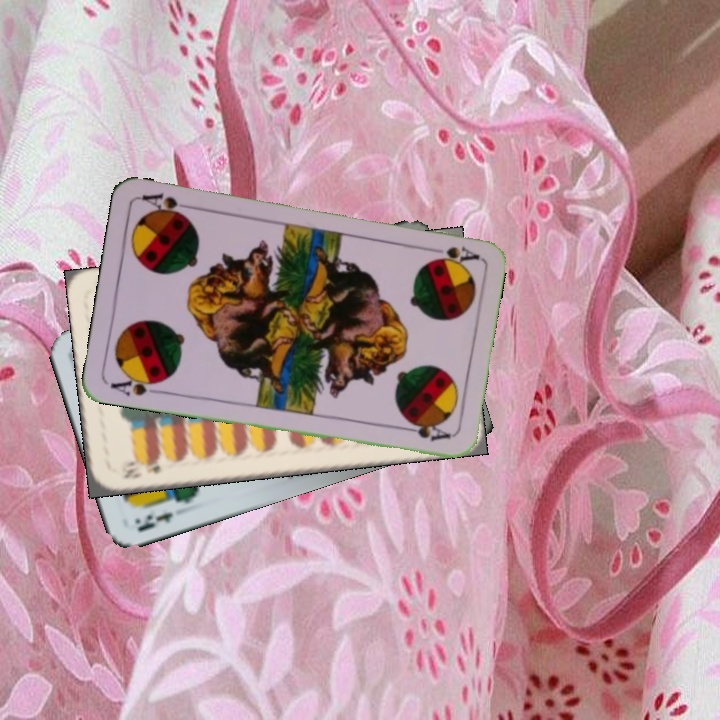E10: (117, 454, 163, 482)
EK: (133, 508, 176, 535)
SA: (106, 370, 167, 399), (422, 242, 481, 265)
